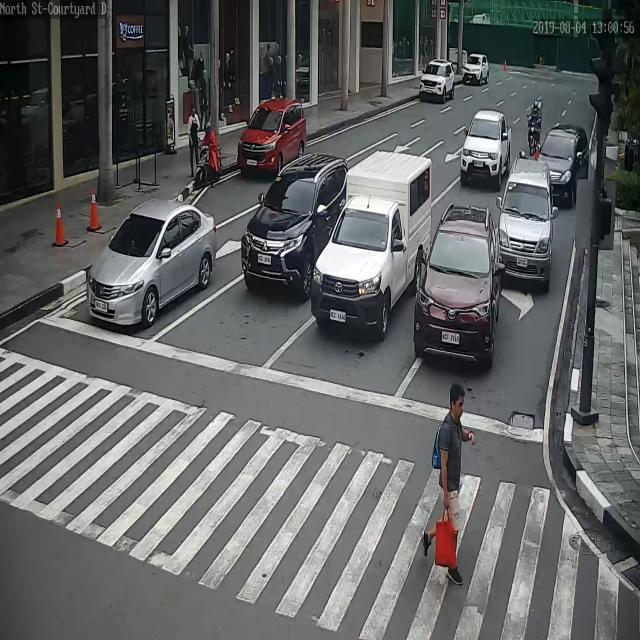car: (86, 202, 218, 331), (240, 152, 350, 301), (413, 205, 500, 370), (496, 170, 557, 293), (239, 97, 310, 179), (536, 123, 590, 207), (461, 112, 512, 190), (420, 59, 457, 105), (461, 54, 489, 86)
jeepney: (193, 116, 223, 189), (527, 96, 544, 160)
van: (311, 151, 434, 340)
